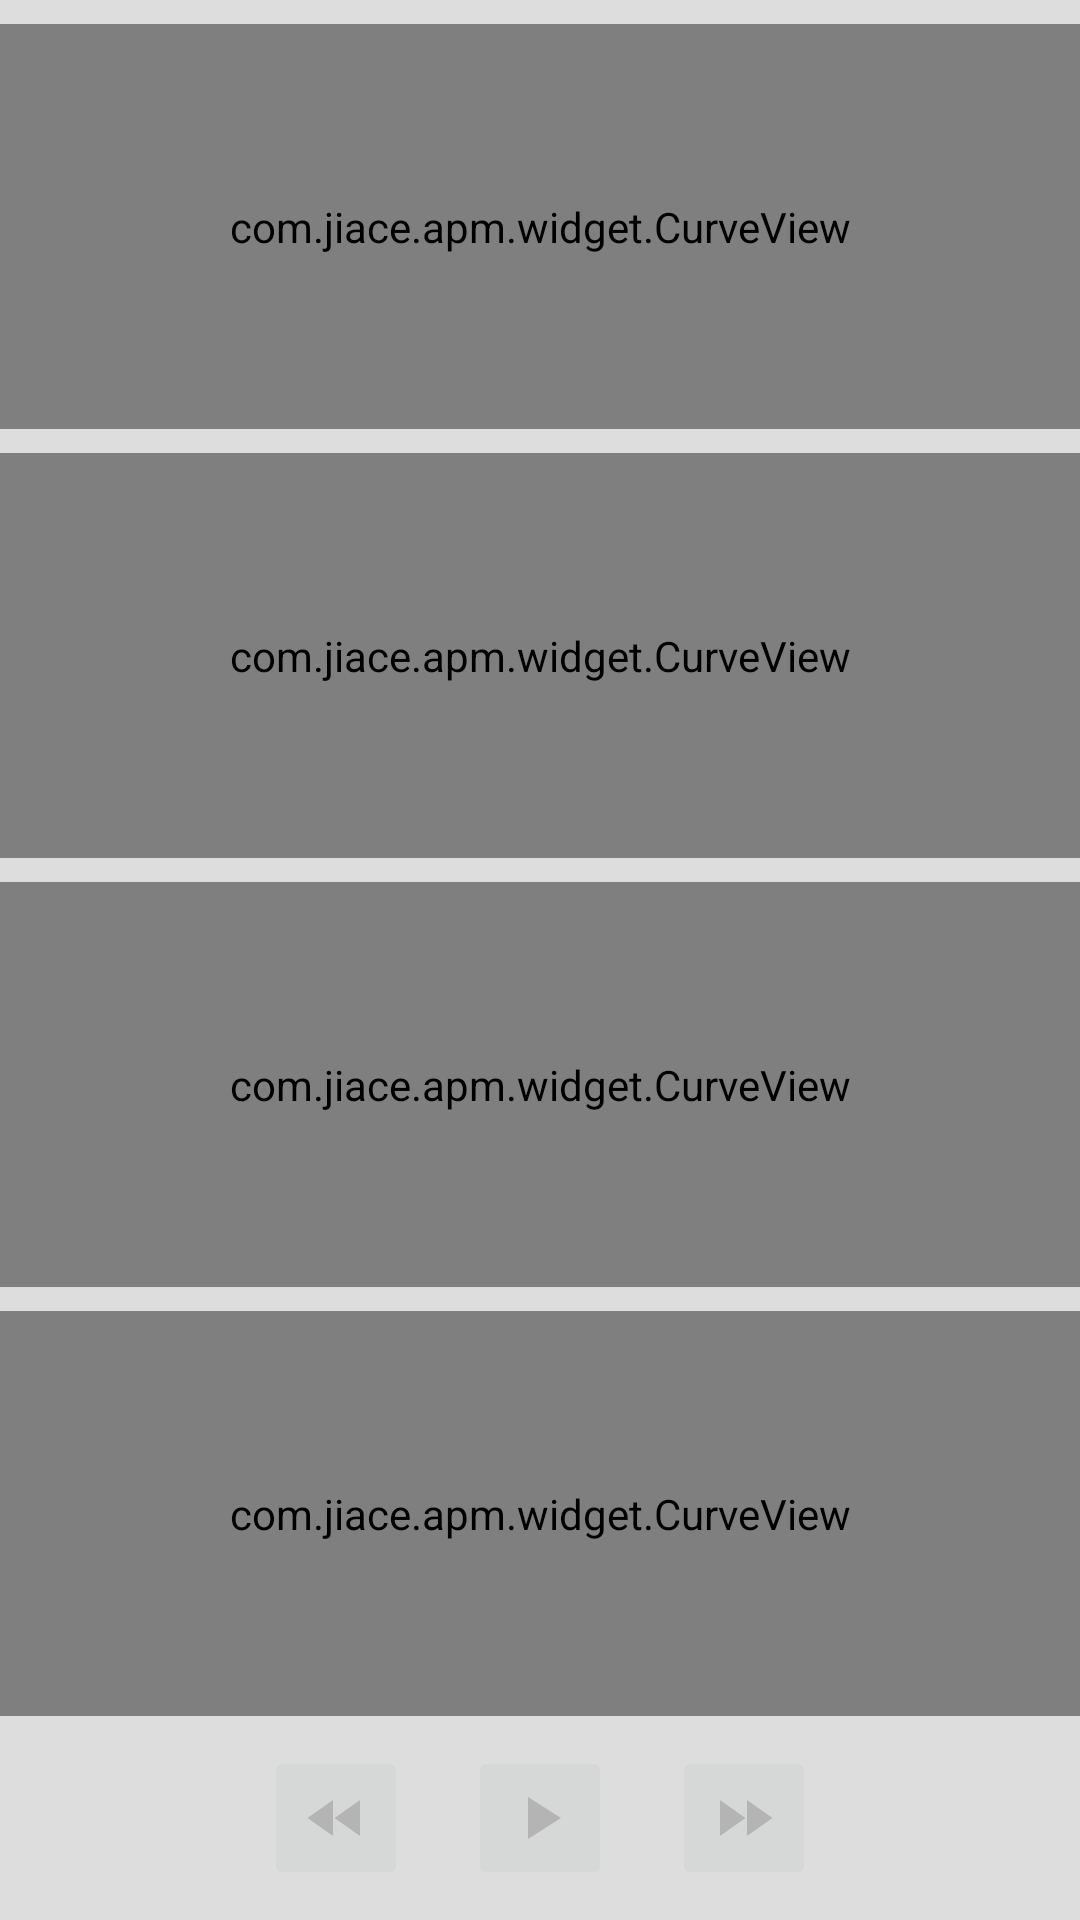

Screen size 1080px×1920px. Icon name, then its box in pixels as (x1, y1, x2, y2):
fast forward: (720, 1800, 772, 1836)
fast rewind: (308, 1800, 360, 1836)
play arrow: (528, 1797, 560, 1839)
